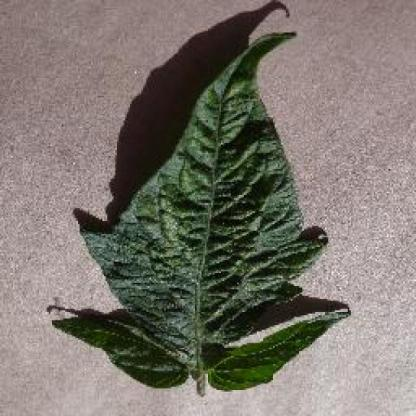Tomato_Spider_Mites: (55, 31, 349, 385)
